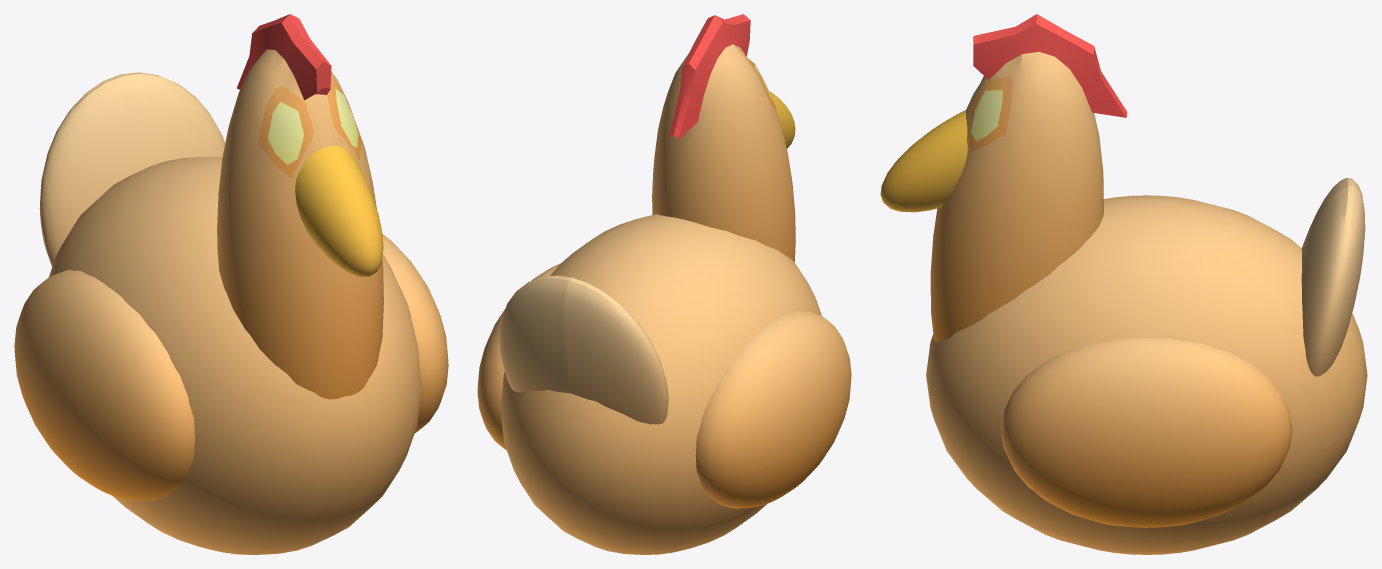
Rendered from Chicken.fbx.
The picture shows the model from 3 angles, left to right: view 1: azimuth 30°, elevation 25°; view 2: azimuth 150°, elevation 25°; view 3: azimuth 270°, elevation 25°; orthographic projection. The views are drawn at different scales.
Parts seen in each view (by area): view 1: Chicken; view 2: Chicken; view 3: Chicken.
Part boxes in pixels (bbox=[...]): Chicken: bbox=[14, 14, 448, 554]; Chicken: bbox=[477, 14, 851, 554]; Chicken: bbox=[880, 14, 1367, 554].
Size of the model in its own units: 176 by 264 by 221.
